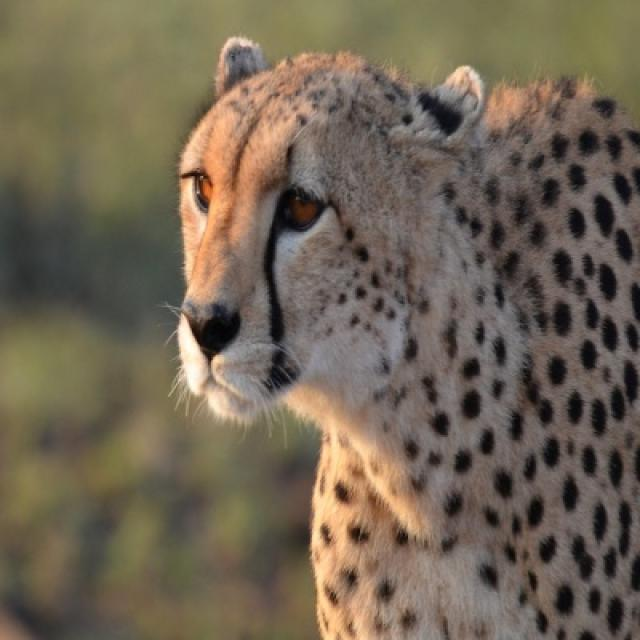Cheetah: (168, 29, 638, 638)
